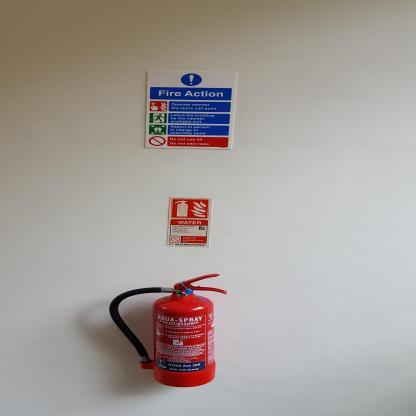Fire Extinguisher: (103, 258, 253, 408)
